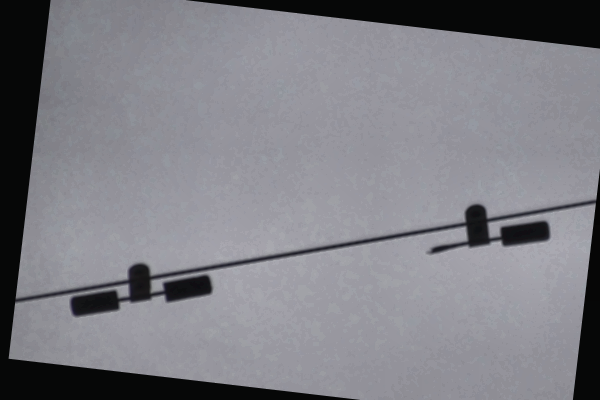damper: (66, 259, 216, 320)
damper_defect: (422, 199, 552, 261)
